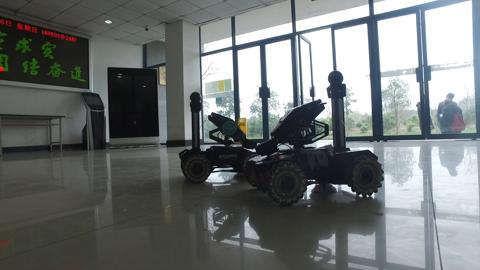chariot: (251, 70, 383, 214), (172, 87, 269, 184)
